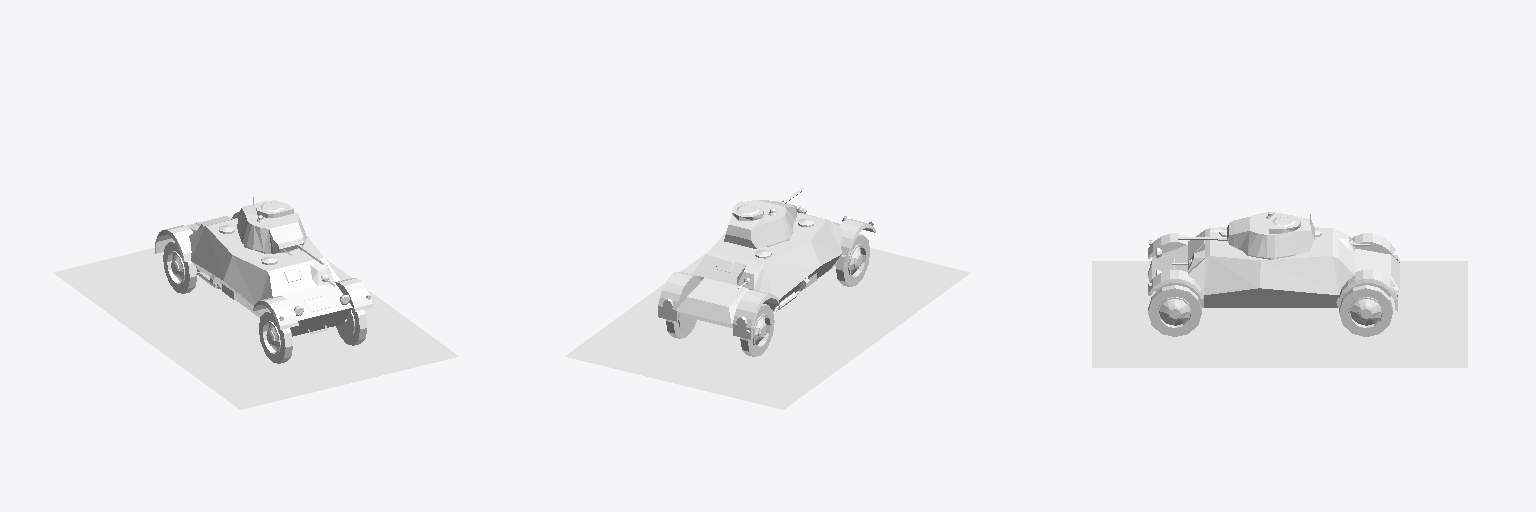
File: SWEPBilM40_export.obj
3 renders of one model, left to right at view 1: azimuth 30°, elevation 25°; view 2: azimuth 150°, elevation 25°; view 3: azimuth 270°, elevation 25°, orthographic.
Visible parts, largest first — view 1: g0; view 2: g0; view 3: g0.
Boxes of the visible parts, x1=… form: g0: x1=53, y1=197, x2=458, y2=409; g0: x1=565, y1=188, x2=970, y2=409; g0: x1=1092, y1=212, x2=1467, y2=367.
Size of the model in its own units: 44.23 by 22.8 by 65.73.